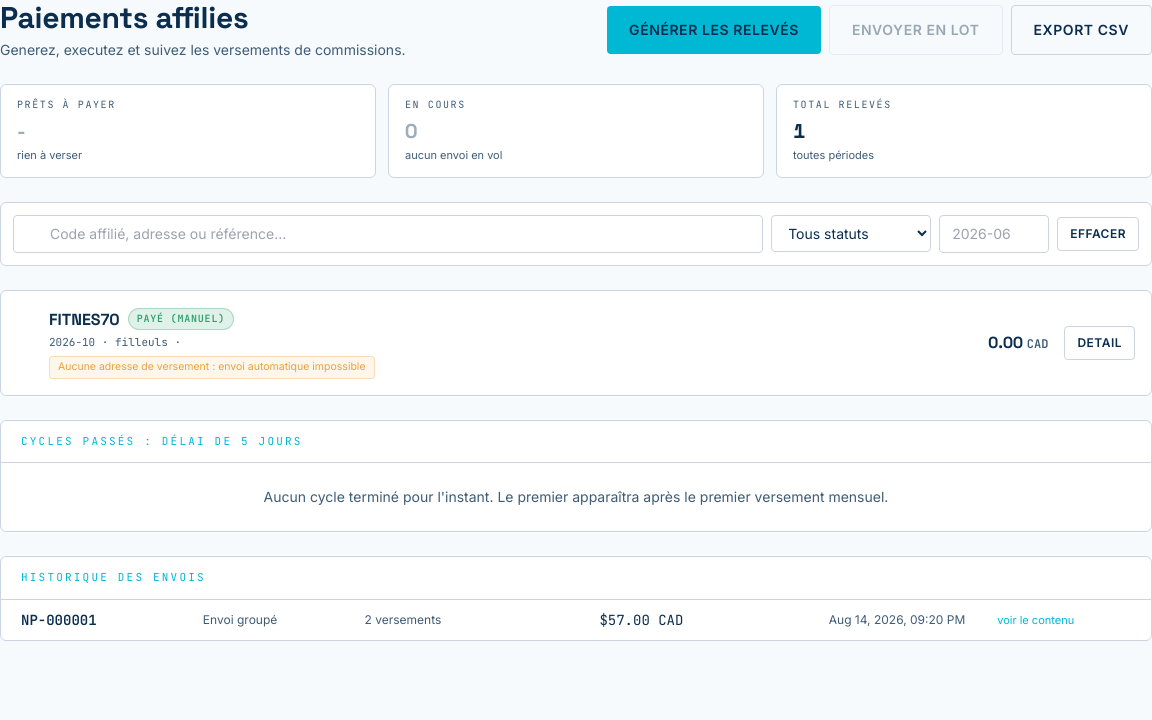
it: AdminPayouts — les avis envoyés › LA RETENUE est nommee, et le rouge reste pour les vrais problemes
Click the button with test id "detail-p-9" at (1100, 343), box [1064,326,1135,360]
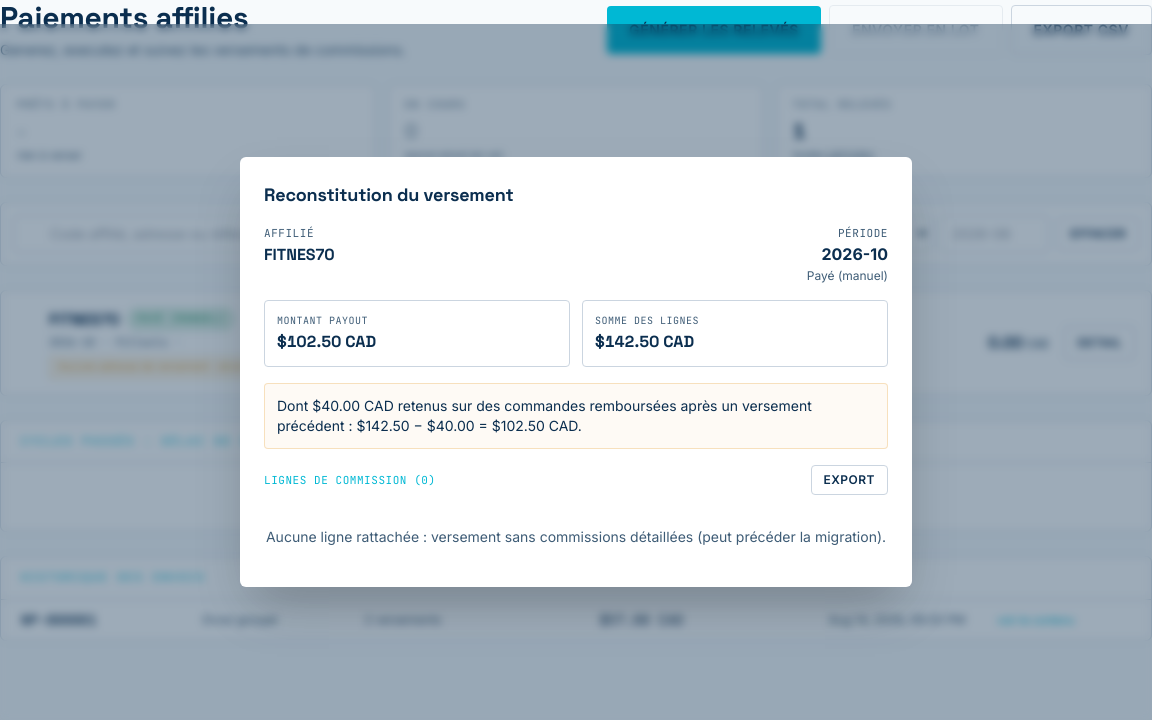
Check: the text with test id "lot-detail-creance" shows "142.50", box [277,397,812,434]
Check: the text with test id "lot-detail-creance" shows "40.00", box [277,397,812,434]
Check: the text with test id "lot-detail-creance" shows "102.50", box [277,397,812,434]
